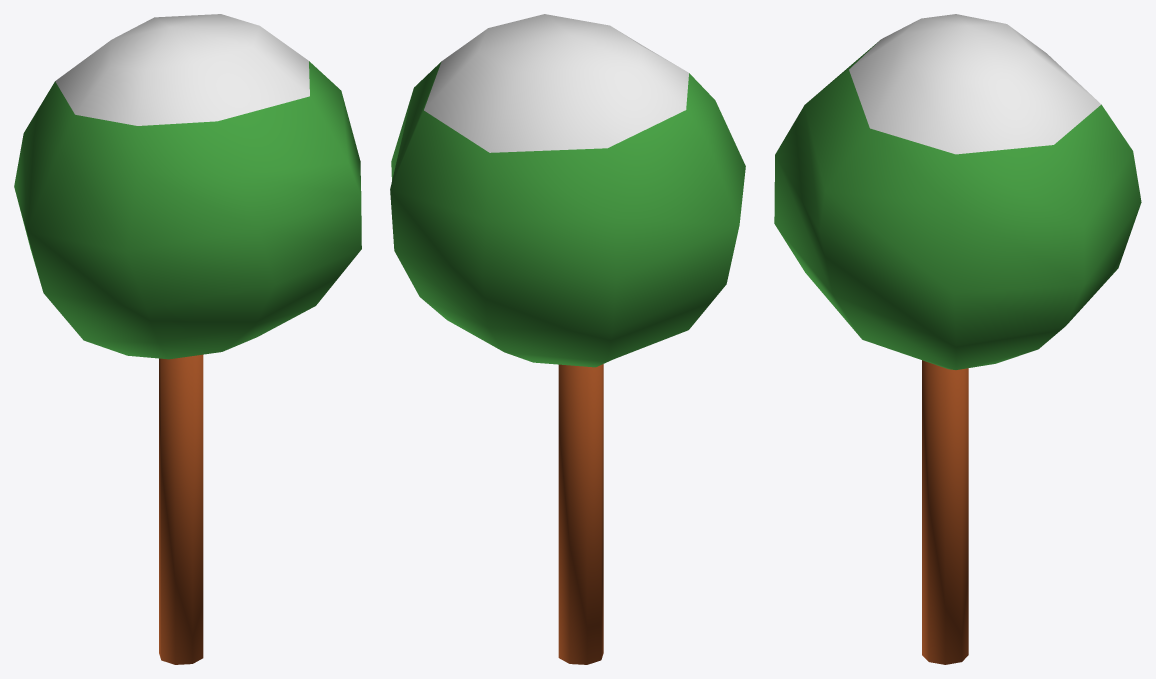
The model's file is Tree3.fbx.
3 views of the same model, side by side, from view 1: azimuth 30°, elevation 25°; view 2: azimuth 150°, elevation 25°; view 3: azimuth 270°, elevation 25° (orthographic).
Visible parts, largest first — view 1: Cylinder; view 2: Cylinder; view 3: Cylinder.
Part boxes in pixels (x1,y1,x2,y2): Cylinder: (14, 14, 361, 664); Cylinder: (390, 14, 745, 664); Cylinder: (774, 14, 1141, 664).
Size of the model in its own units: 2.6 by 4.54 by 2.4.
